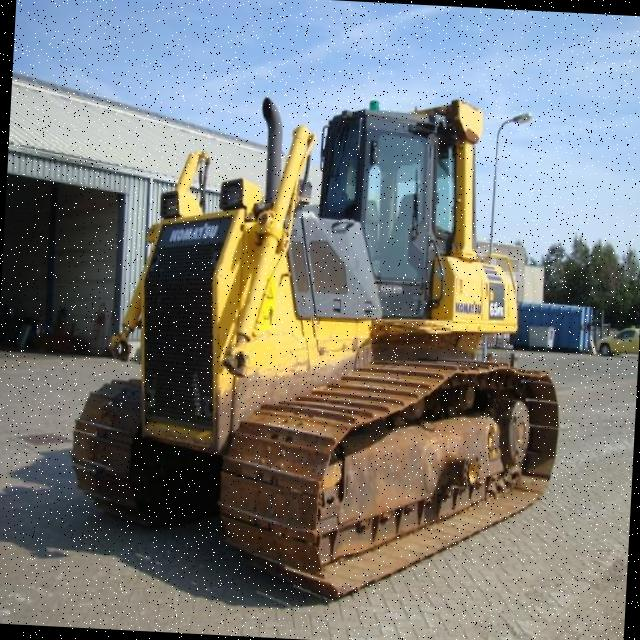Bulldozer: (59, 40, 599, 616)
